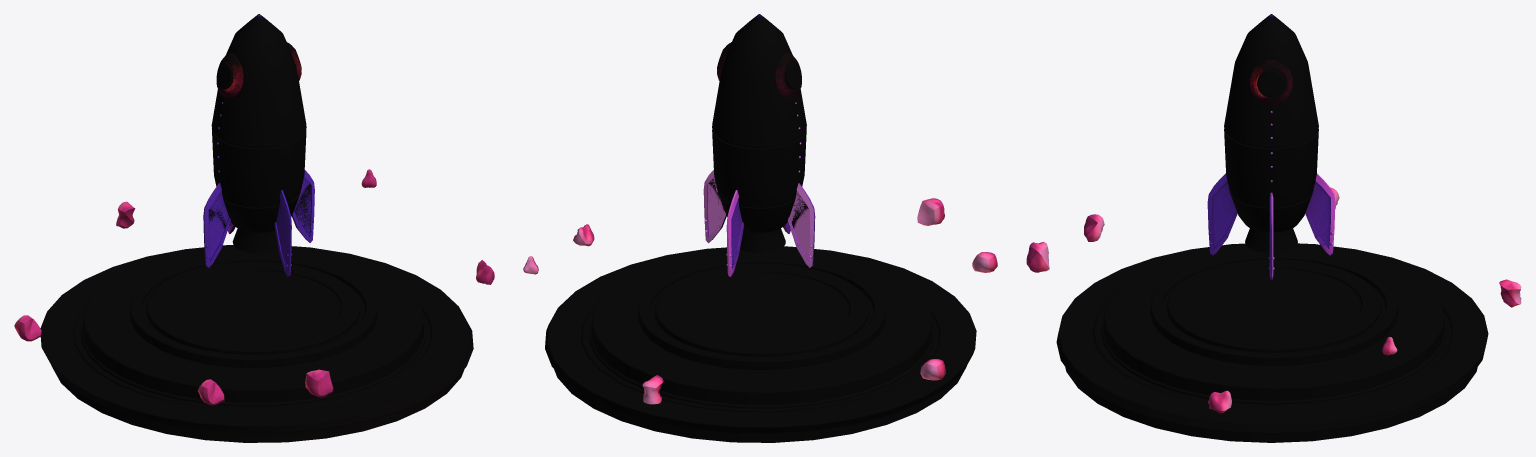
Rendered from rocket.glb.
3 renders of one model, left to right at view 1: azimuth 30°, elevation 25°; view 2: azimuth 150°, elevation 25°; view 3: azimuth 270°, elevation 25°, orthographic.
Visible parts, largest first — view 1: platform, rocket base, rocket wing, window, rock_1, rock_3, rock_2; view 2: platform, rocket base, rocket wing, window, rock_1, rock_4, rock_3; view 3: platform, rocket base, rocket wing, window, rock_1, rock_4.
Part boxes in pixels (x1,y1,x2,y2): platform: [40, 245, 473, 442]; rocket base: [211, 14, 306, 253]; rocket wing: [203, 170, 314, 276]; window: [216, 42, 301, 97]; rock_1: [305, 369, 333, 397]; rock_3: [14, 315, 41, 341]; rock_2: [198, 379, 224, 405]; platform: [545, 246, 976, 442]; rocket base: [712, 14, 806, 253]; rocket wing: [703, 170, 815, 276]; window: [717, 42, 801, 97]; rock_1: [917, 198, 944, 225]; rock_4: [642, 375, 663, 404]; rock_3: [920, 359, 945, 380]; platform: [1056, 243, 1488, 442]; rocket base: [1224, 14, 1318, 252]; rocket wing: [1207, 173, 1335, 279]; window: [1250, 60, 1292, 104]; rock_1: [1026, 241, 1049, 272]; rock_4: [1499, 279, 1521, 307].
Size of the model in its own units: 23.34 by 17.94 by 23.67.
5 materials, 5 textured.
